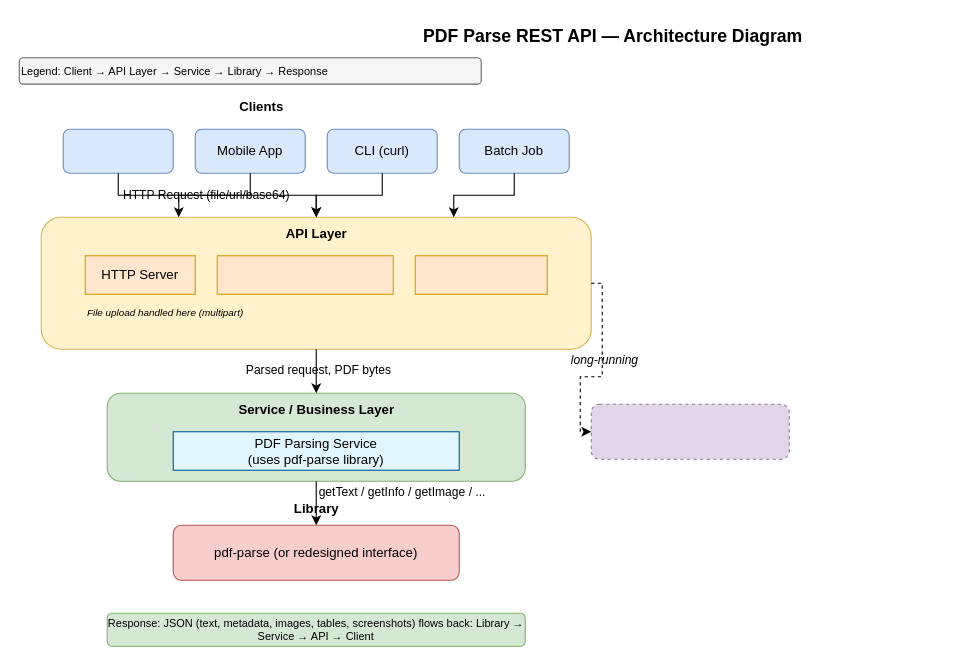
Image size: 963x666. Some labels were removed from this diagram. The shapes that lost their labels are listed below. From the top down, each one's centre as x and y in pixels, then its label:
At (117,150): "Web App".
At (304,274): "Routes (/extract/text, /extract/info, ...)".
At (480,274): "Request Validation".
At (689,431): "Optional: Queue / Worker (async processing)".
